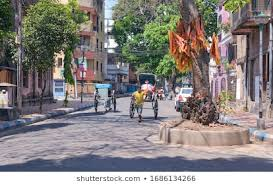mask: (137, 86, 143, 93), (144, 76, 149, 82)
